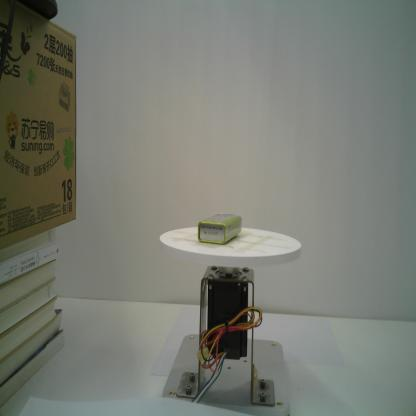Gum: (196, 210, 243, 247)
